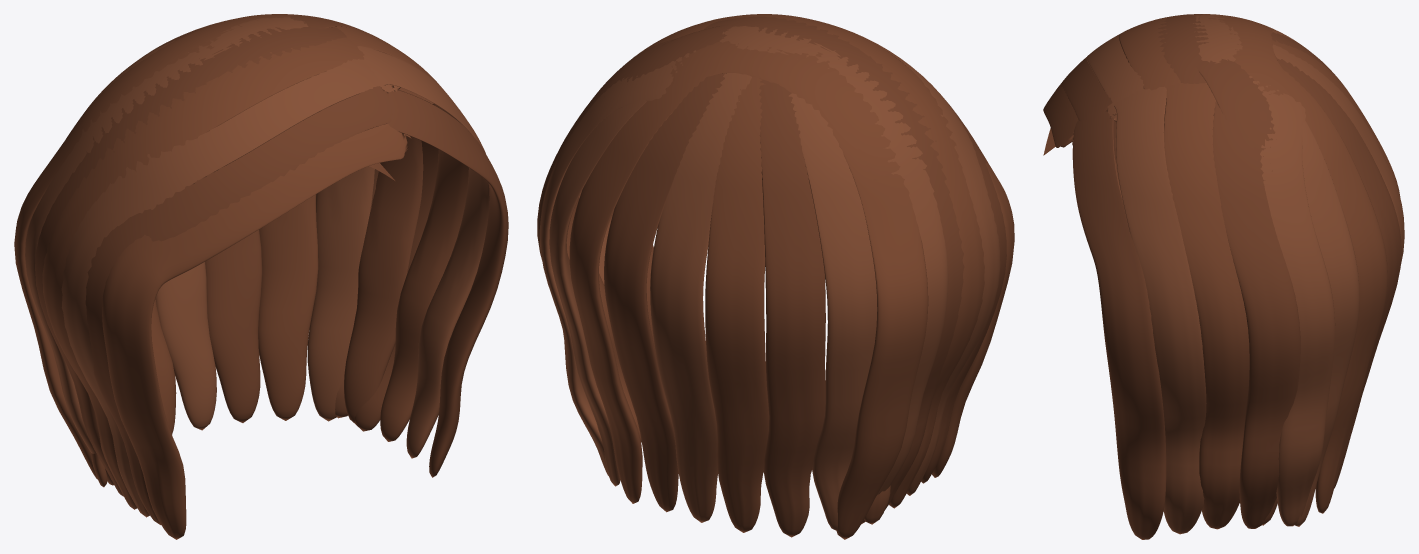
Rendered from Feminine-side-sweep-cowboy260-hair.glb.
3 views of the same model, side by side, from view 1: azimuth 30°, elevation 25°; view 2: azimuth 150°, elevation 25°; view 3: azimuth 270°, elevation 25° (orthographic). The views are drawn at different scales.
Parts seen in each view (by area): view 1: 226 hair / Hair / sculpted 0.002, 226 hair / Hair / sculpted 1.004, 226 hair / Hair / sculpted 2.002; view 2: 226 hair / Hair / sculpted 0.002, 226 hair / Hair / sculpted 2.002, 226 hair / Hair / sculpted 1.004; view 3: 226 hair / Hair / sculpted 1.004, 226 hair / Hair / sculpted 2.002, 226 hair / Hair / sculpted 0.002.
Boxes of the visible parts, left/top/right/bottom form: 226 hair / Hair / sculpted 0.002: left=14, top=14, right=468, bottom=539; 226 hair / Hair / sculpted 1.004: left=35, top=15, right=508, bottom=524; 226 hair / Hair / sculpted 2.002: left=25, top=15, right=489, bottom=517; 226 hair / Hair / sculpted 0.002: left=566, top=14, right=1014, bottom=539; 226 hair / Hair / sculpted 2.002: left=539, top=17, right=1000, bottom=530; 226 hair / Hair / sculpted 1.004: left=537, top=16, right=1006, bottom=537; 226 hair / Hair / sculpted 1.004: left=1061, top=14, right=1401, bottom=539; 226 hair / Hair / sculpted 2.002: left=1086, top=14, right=1404, bottom=534; 226 hair / Hair / sculpted 0.002: left=1043, top=15, right=1400, bottom=529.
Size of the model in its own units: 1.01 by 1.05 by 0.78.
